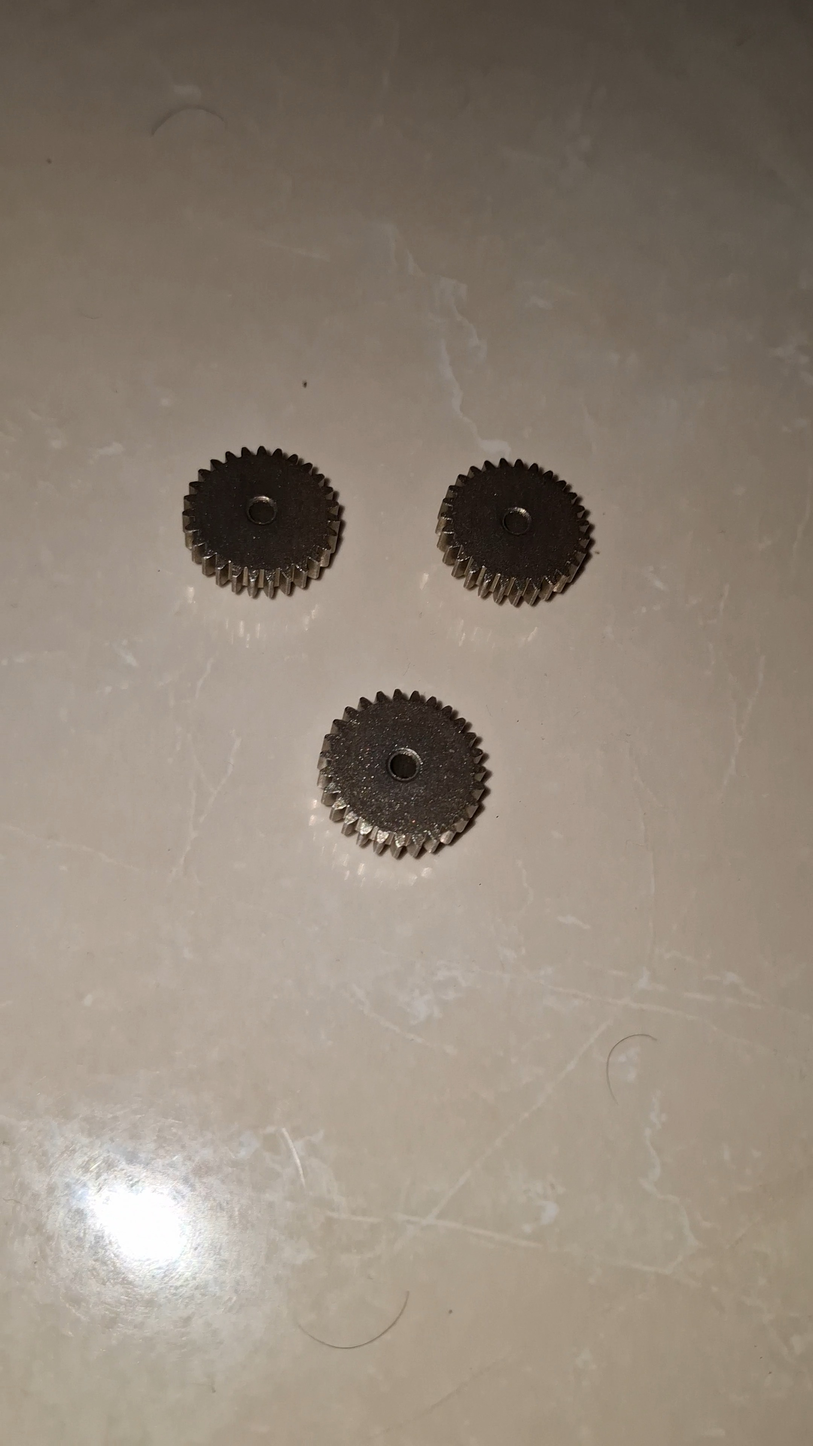spur gear: (319, 690, 484, 856), (183, 447, 340, 596), (437, 459, 591, 604)
